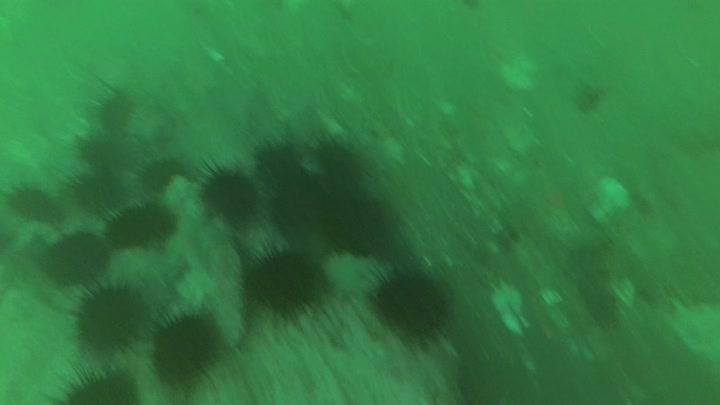echinus: (369, 265, 453, 341), (243, 246, 328, 317), (149, 309, 225, 388), (72, 282, 148, 354), (319, 191, 394, 257), (268, 162, 334, 231), (41, 230, 110, 287), (198, 164, 262, 225), (104, 200, 177, 251), (55, 364, 143, 405), (312, 137, 366, 188), (69, 168, 125, 216), (6, 182, 63, 225), (253, 139, 305, 186), (76, 131, 131, 172), (93, 86, 138, 133), (137, 154, 188, 194)
starfish: (125, 105, 171, 144)
